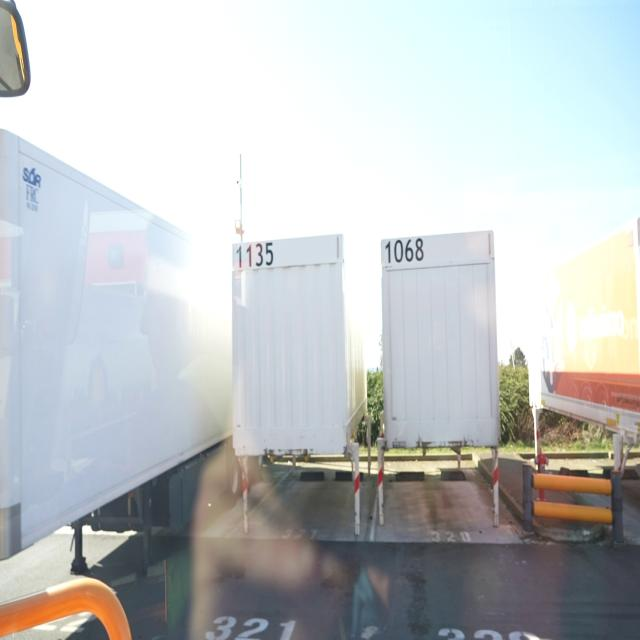Code: (233, 235, 276, 273), (383, 236, 424, 269)
